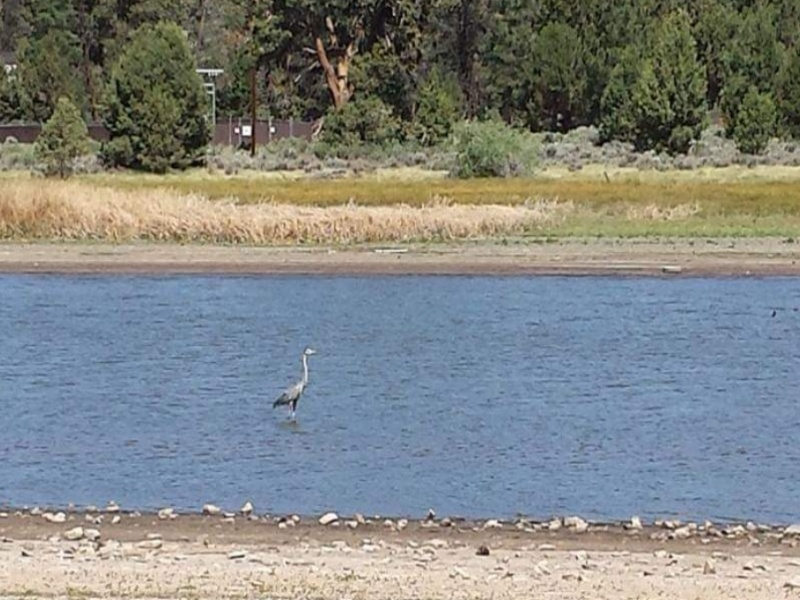heron: (272, 344, 316, 422)
